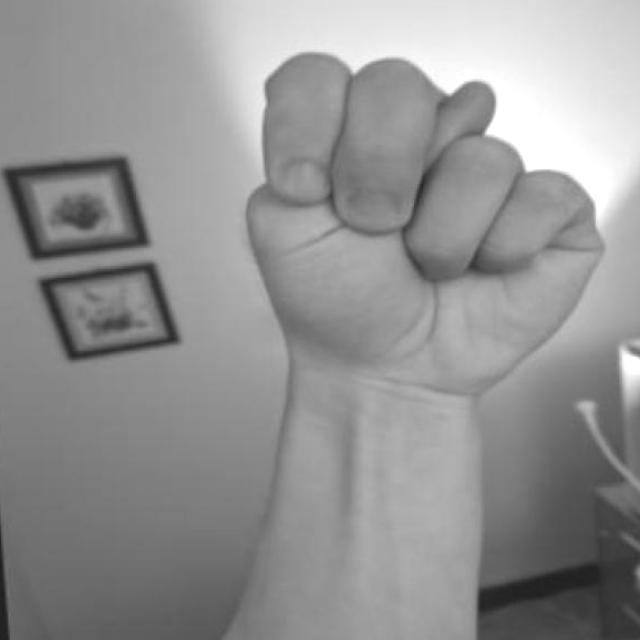N: (224, 45, 618, 428)
